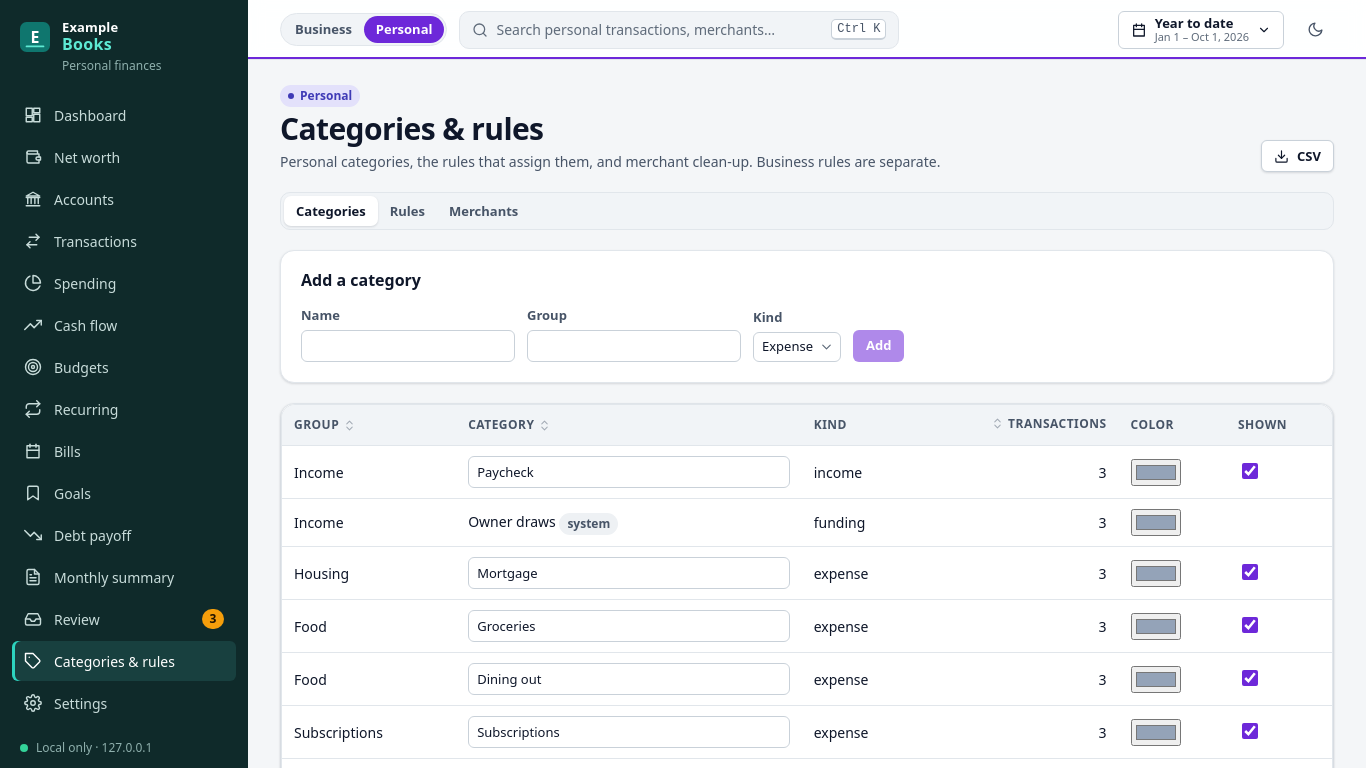
personal writes › previews a new rule against history
This screenshot has width=1366, height=768.
Expected: the text "Owner draws" is shown, [468,512,556,531]
Click the radio button labelled "Rules" at (407, 211), box [378,196,437,226]
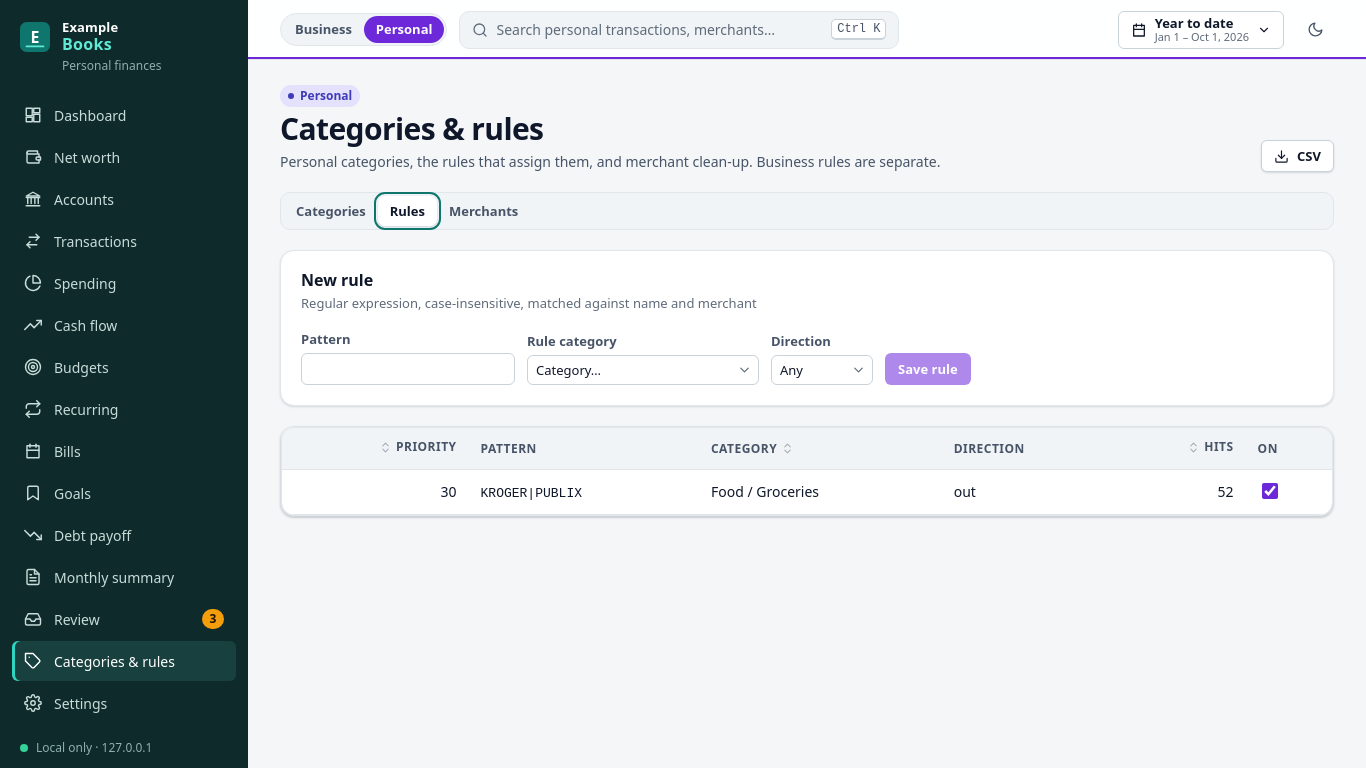
Type "KROGER" into the field labelled "Pattern" at (408, 369), box [301,353,515,385]
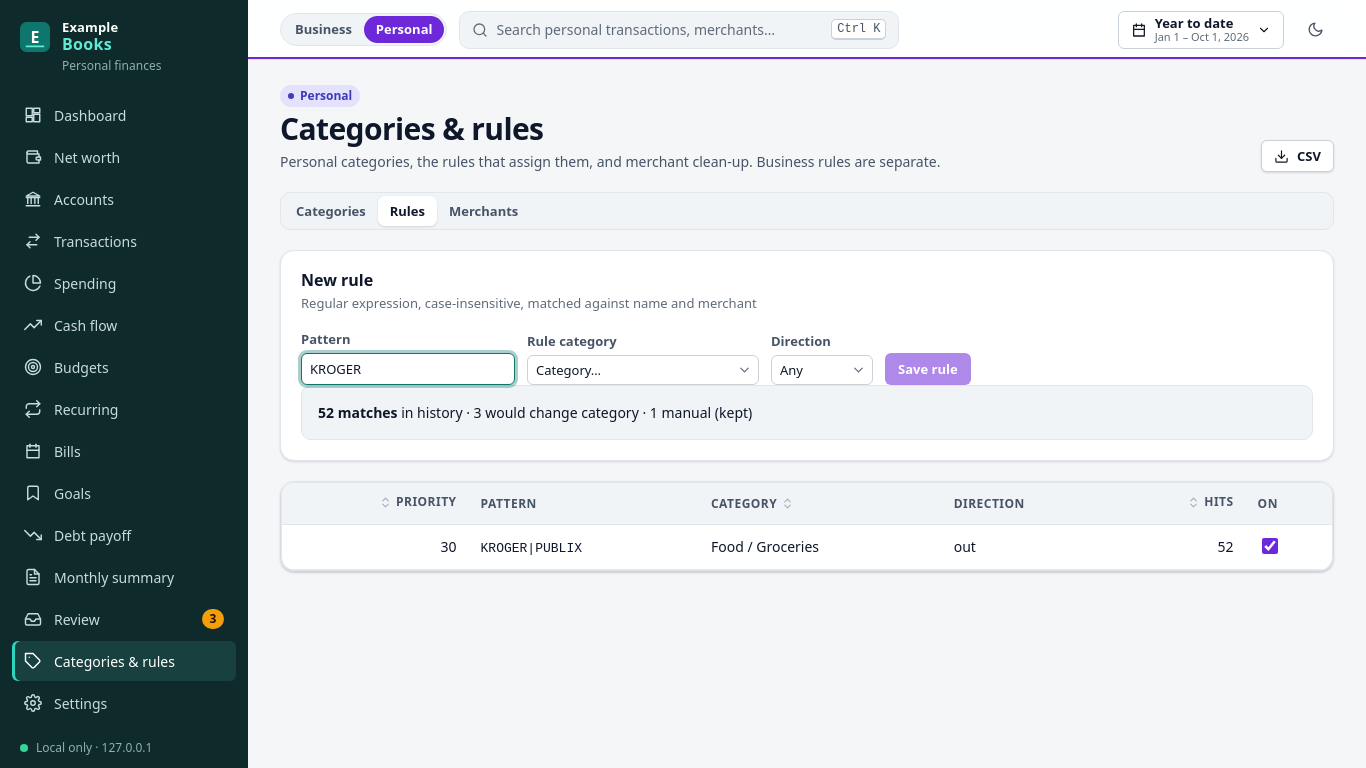
Expected: the text "52 matches" is shown, [318,403,398,422]
Expected: the text "3 would change category" is shown, [318,403,752,422]
